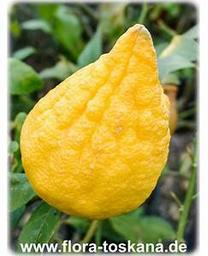lemon: (20, 24, 169, 218)
